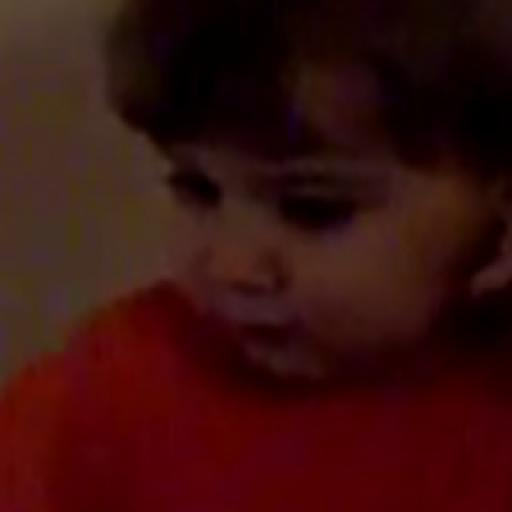Autism: (126, 13, 503, 454)
